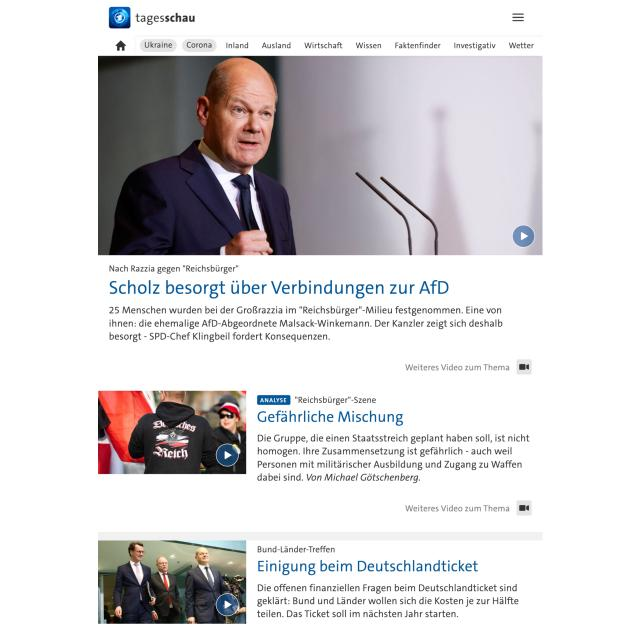logo: (108, 6, 197, 30)
navigation: (138, 36, 543, 54), (509, 9, 529, 26)
